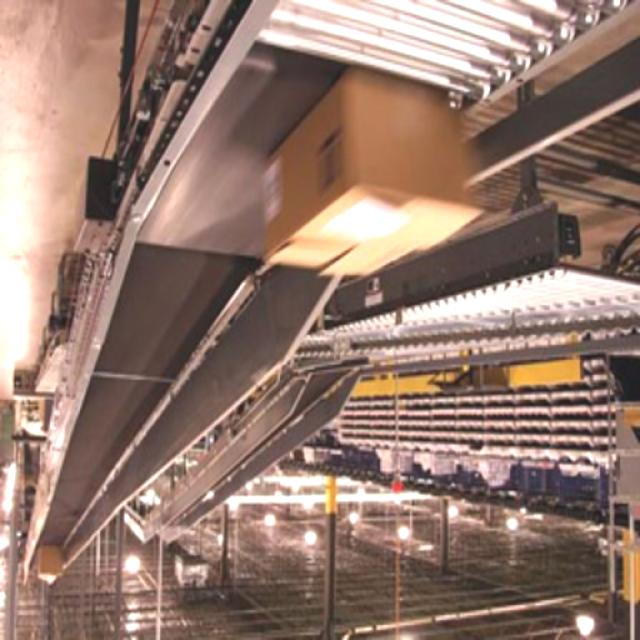conveyor: (31, 2, 640, 551)
